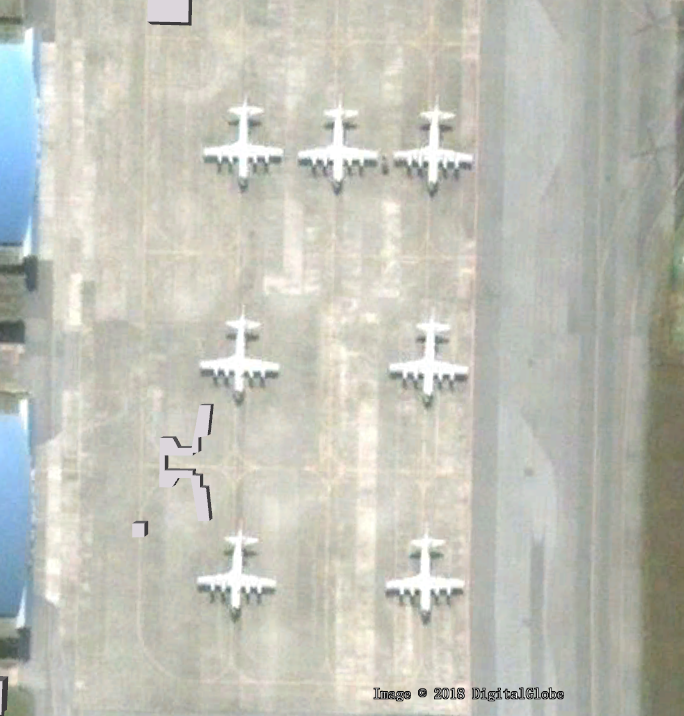A9: (195, 81, 293, 194), (289, 80, 387, 193), (386, 83, 484, 196), (189, 509, 287, 622), (193, 293, 291, 405), (376, 299, 474, 411), (375, 512, 473, 624)
